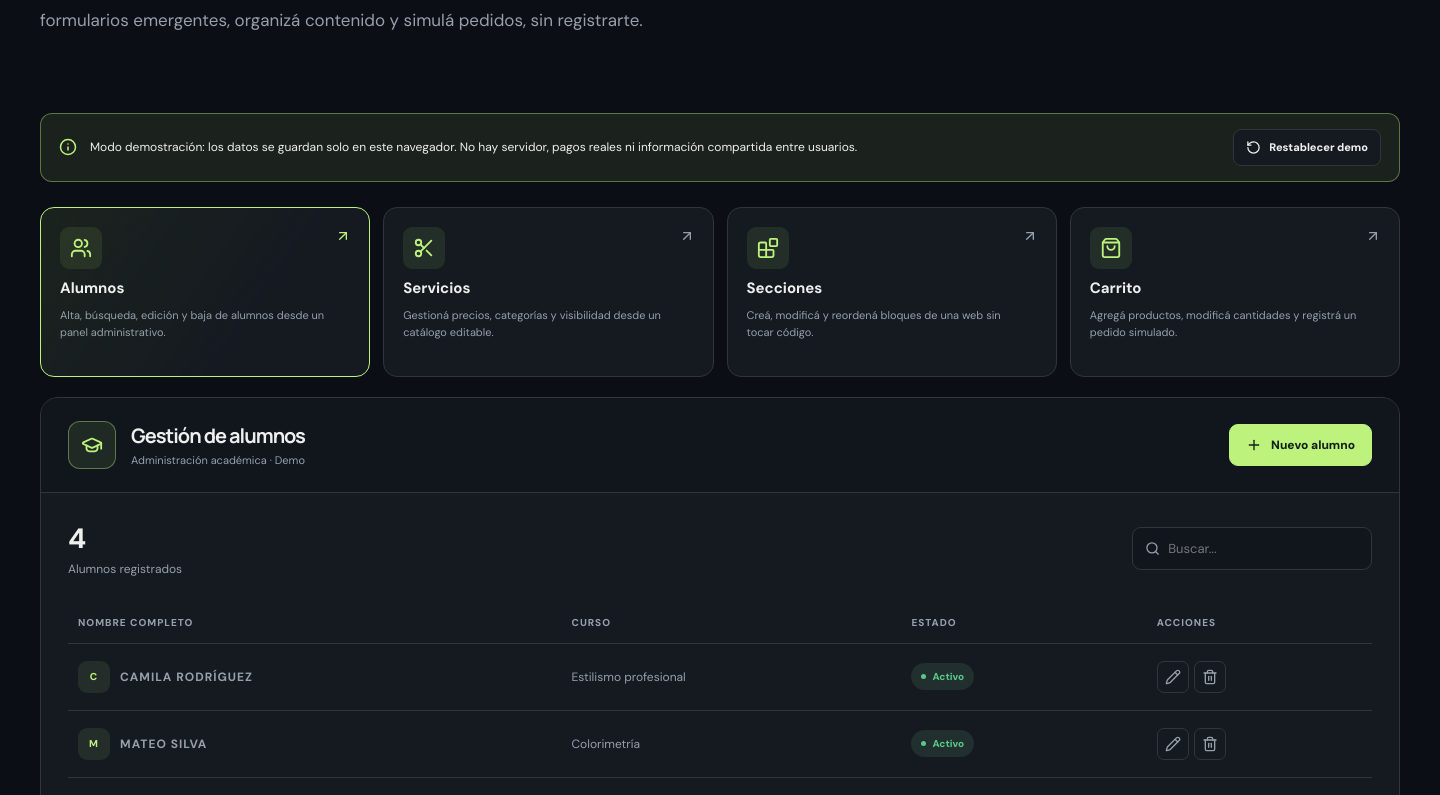
Test case: LabPage — students demo › adds a student using modal values and persists the result
(page scrolled)
Click the button "Nuevo alumno" at (1301, 445), box [1229,424,1372,466]
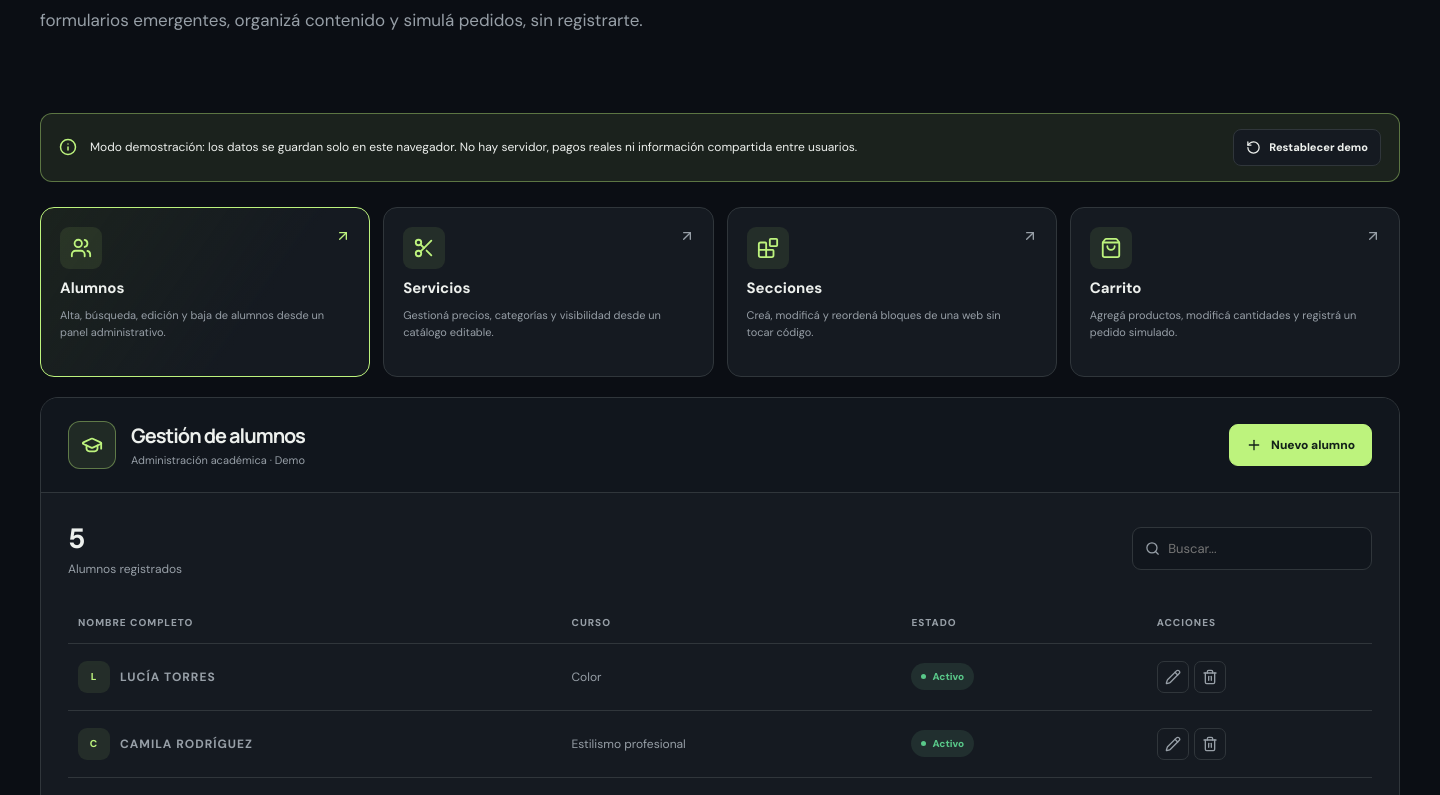
Result: the text "Lucía Torres" is shown at [120,669,216,685]
